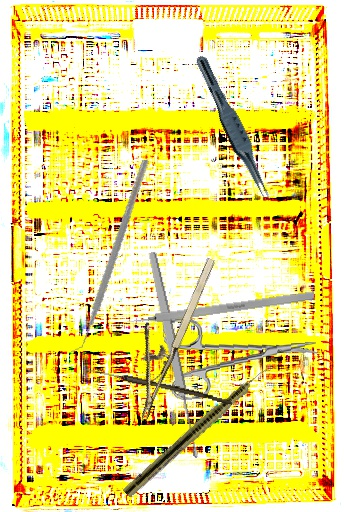Chopper: (26, 159, 187, 354)
Handpiece: (121, 359, 277, 500)
Hook Surgical: (117, 291, 315, 328)
Iris Scissors: (162, 309, 320, 402)
Needle Holder: (107, 245, 221, 423)
Surgical Spoon: (146, 251, 202, 459), (83, 366, 234, 405)
Tissue Forceps: (186, 53, 280, 204)
